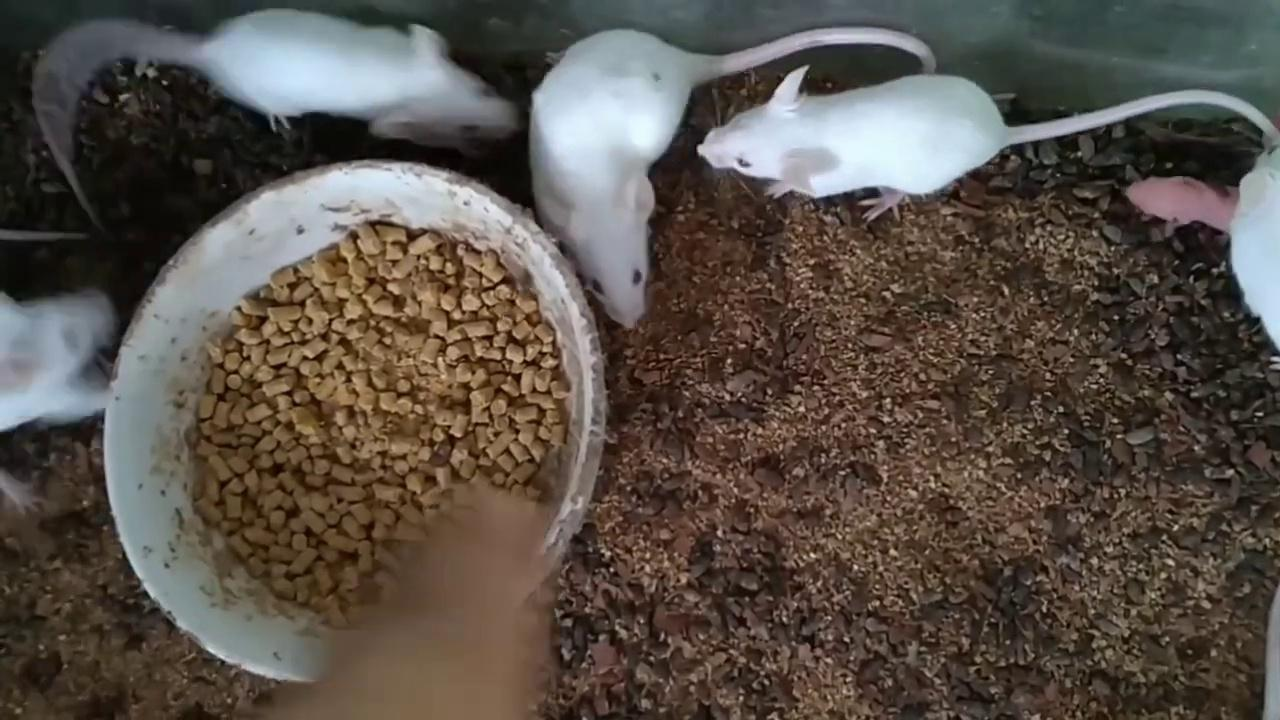mouse: (532, 27, 937, 329), (36, 10, 520, 223), (699, 65, 1278, 224)
